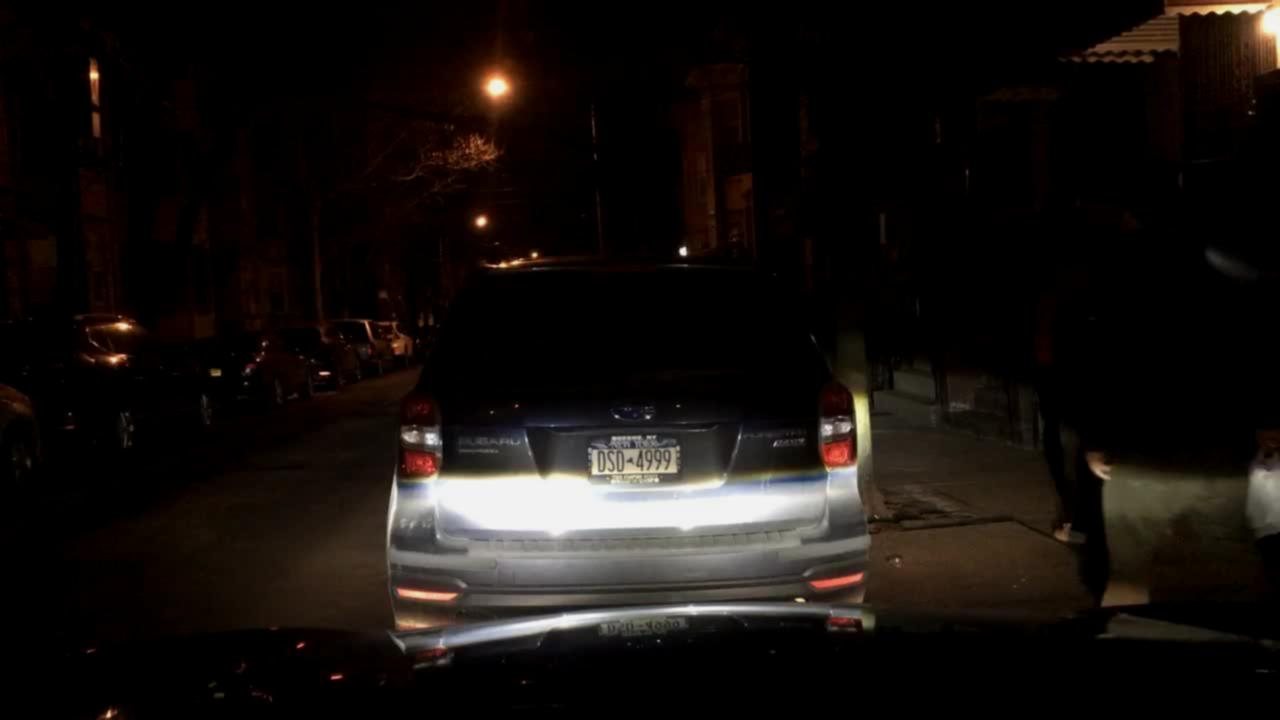subaru: (607, 394, 659, 427)
